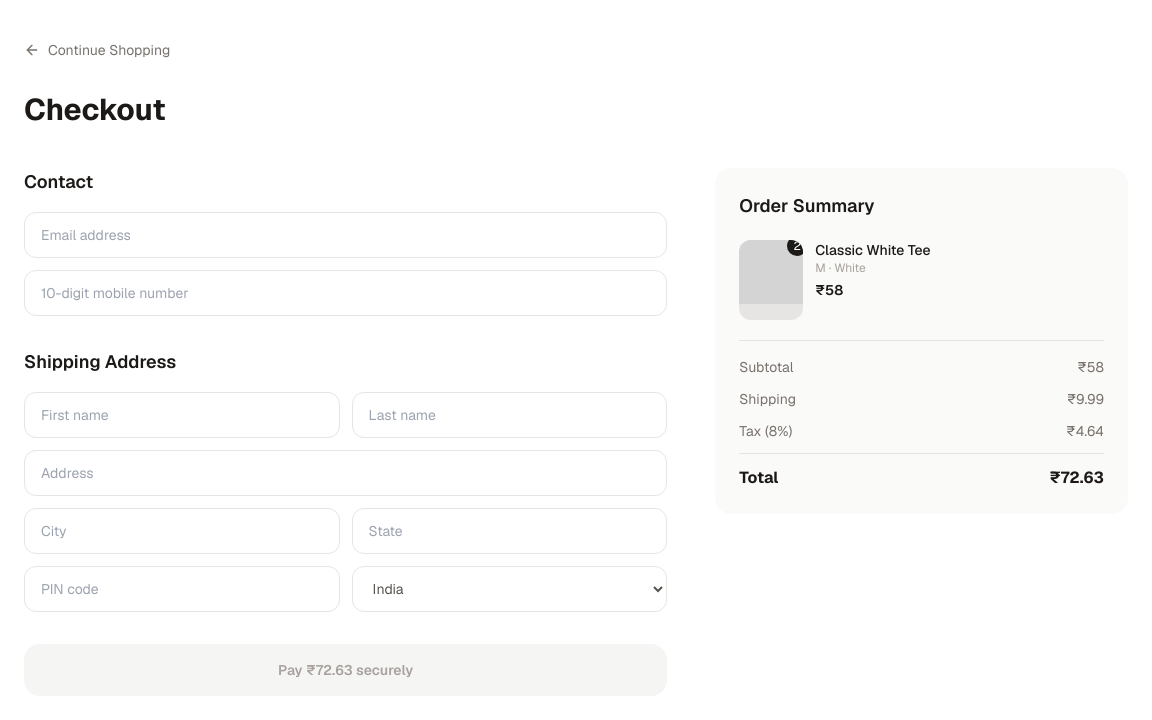
Test: CheckoutPage › rendering › enables the pay button when all required fields are filled
Type "test@example.com" into the field with placeholder "Email address" at (346, 235), box [24,212,667,258]
Type "9876543210" into the field with placeholder "10-digit mobile number" at (346, 293), box [24,270,667,316]
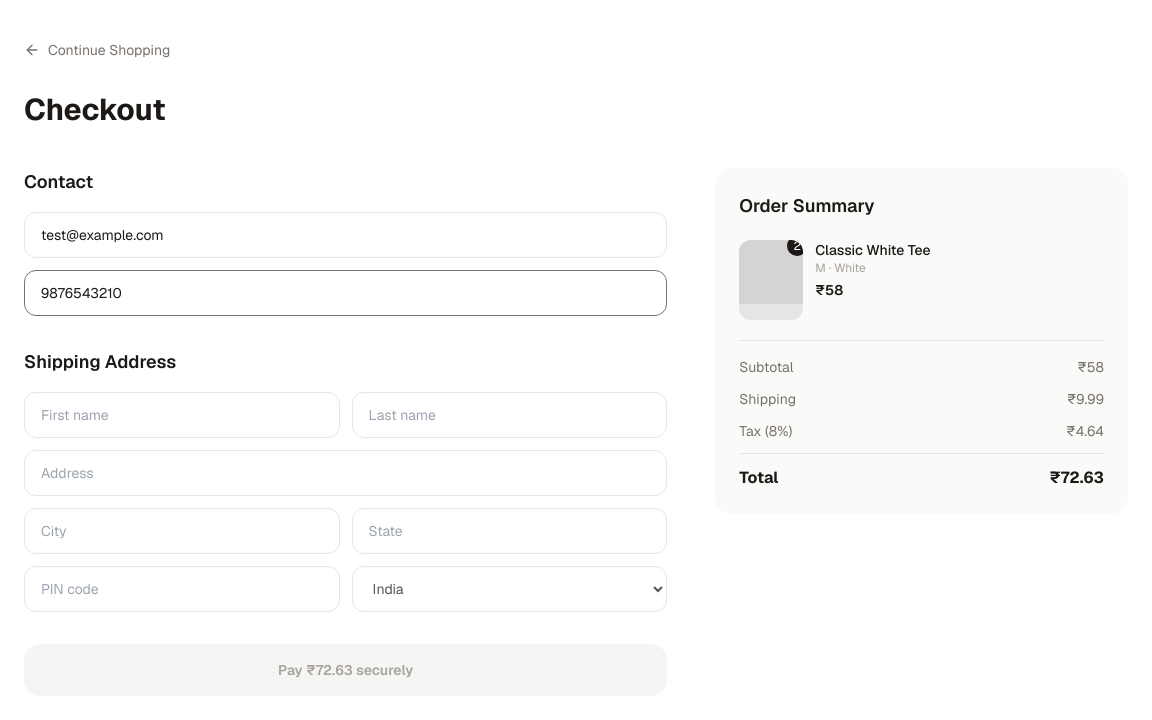
Type "John" into the field with placeholder "First name" at (182, 415), box [24,392,340,438]
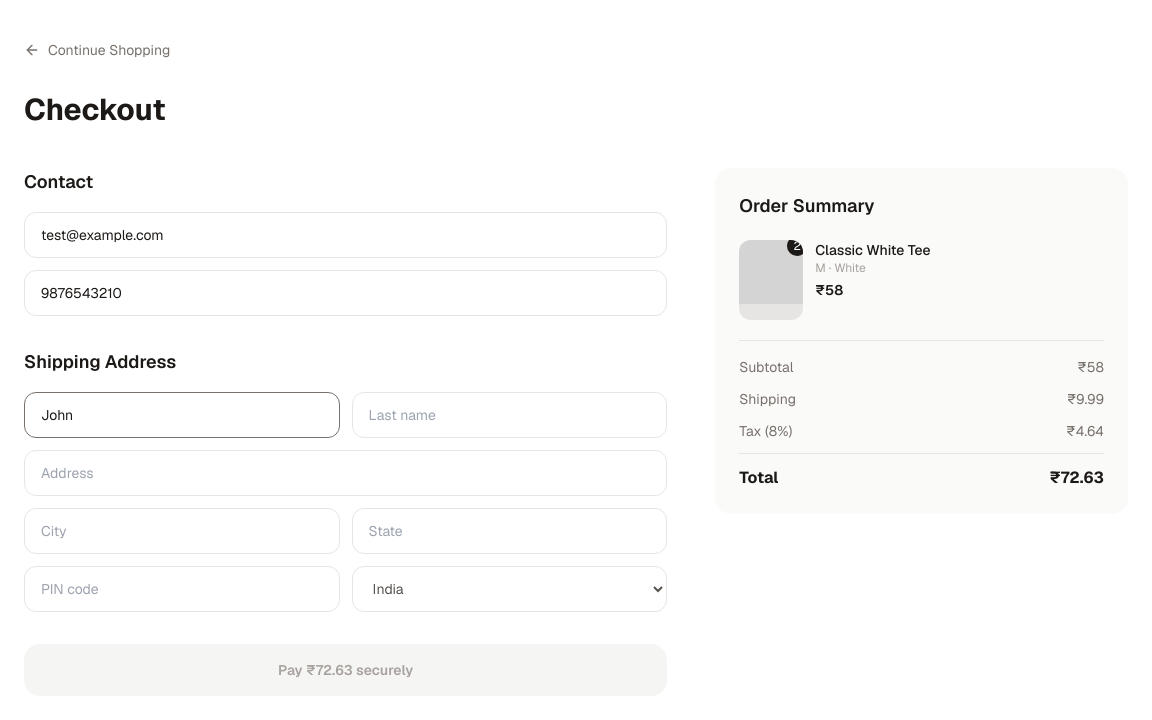
Type "Doe" into the field with placeholder "Last name" at (509, 415), box [352,392,667,438]
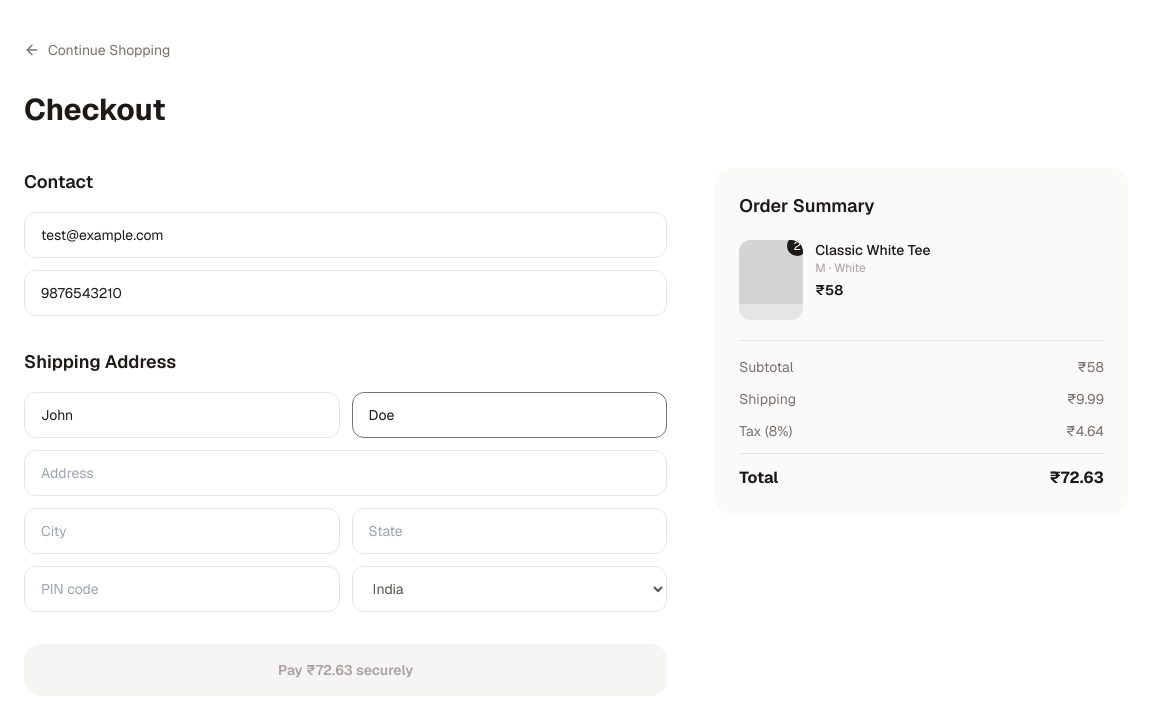
Type "123 Main St" into the field with placeholder "Address" at (346, 473), box [24,450,667,496]
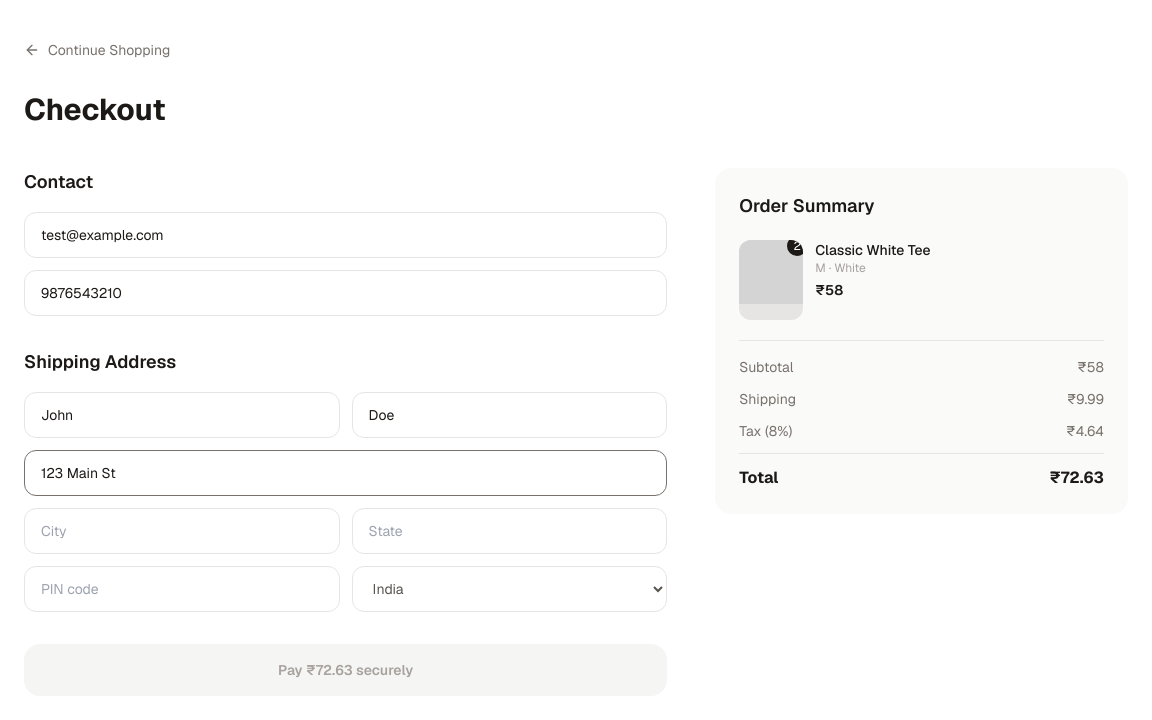
Type "Mumbai" into the field with placeholder "City" at (182, 531), box [24,508,340,554]
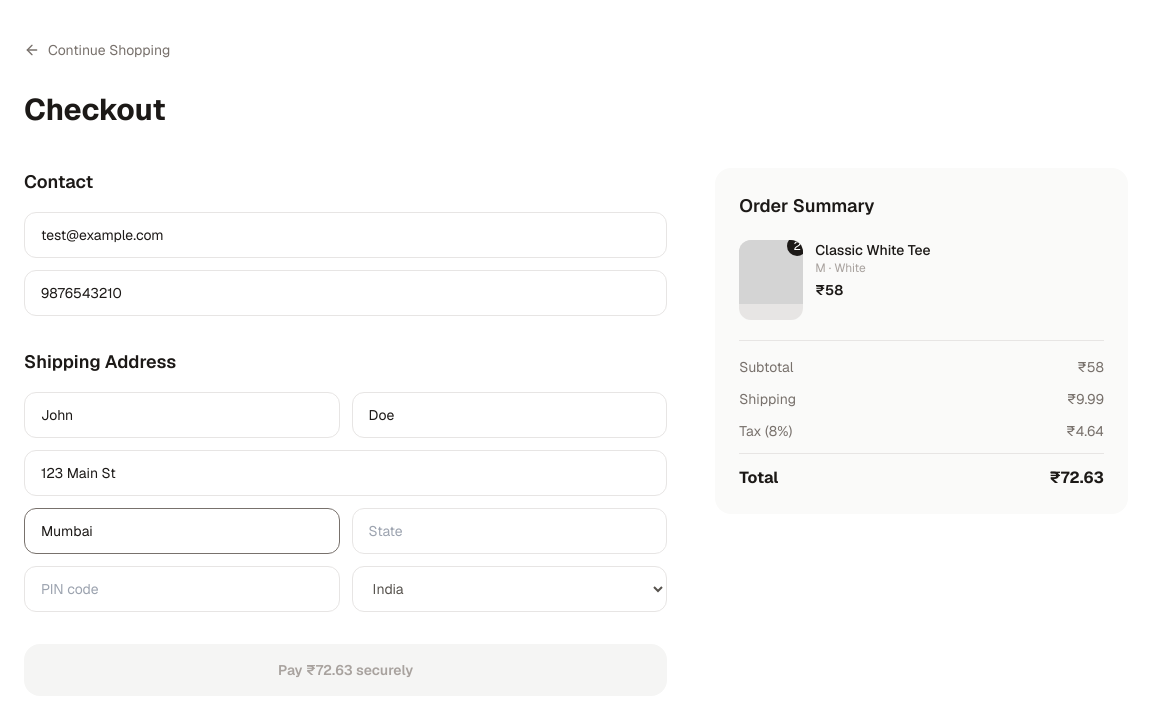
Type "400001" into the field with placeholder "PIN code" at (182, 589), box [24,566,340,612]
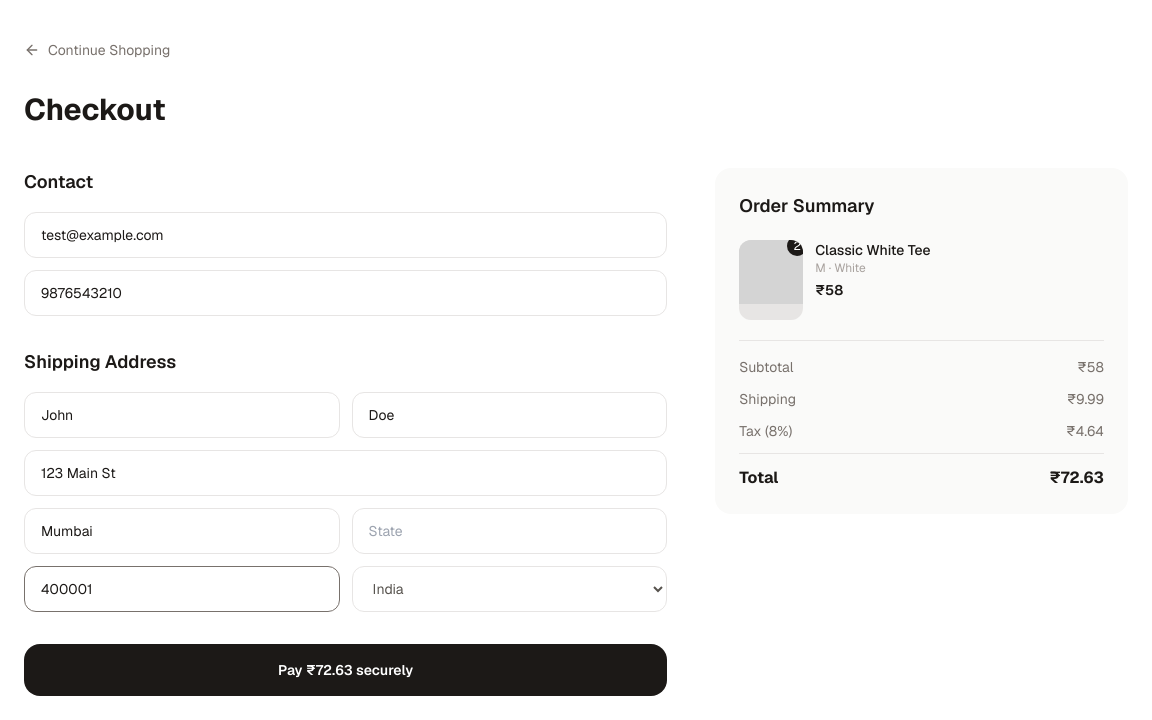
expect the button "Pay ₹72.63 securely" is enabled: met, box [24,644,667,696]
